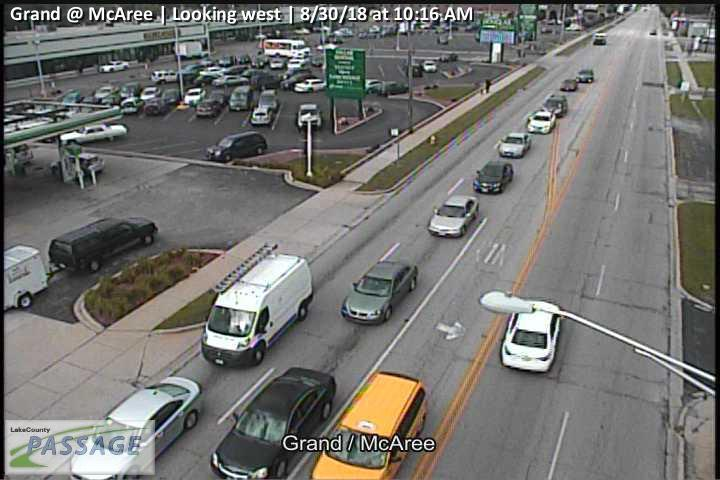Bus: (262, 39, 310, 58)
SUV: (196, 252, 314, 368), (307, 370, 428, 480), (205, 131, 267, 162), (226, 84, 251, 112), (541, 93, 568, 117), (150, 69, 182, 85)
Sedan: (210, 365, 336, 480), (69, 373, 202, 480), (340, 260, 418, 325), (501, 300, 562, 371), (427, 194, 480, 237), (59, 120, 127, 145), (471, 160, 513, 195), (498, 132, 530, 158), (296, 102, 322, 130), (527, 109, 556, 134), (279, 73, 318, 90), (194, 99, 221, 119), (259, 88, 280, 112), (249, 105, 273, 125), (293, 78, 325, 93), (142, 98, 167, 117), (211, 75, 250, 87), (183, 87, 207, 105), (138, 85, 161, 103), (118, 96, 141, 114), (117, 82, 140, 100), (160, 88, 181, 107), (206, 90, 227, 103), (576, 69, 595, 83), (559, 78, 577, 91)
Truck: (48, 214, 158, 273)
